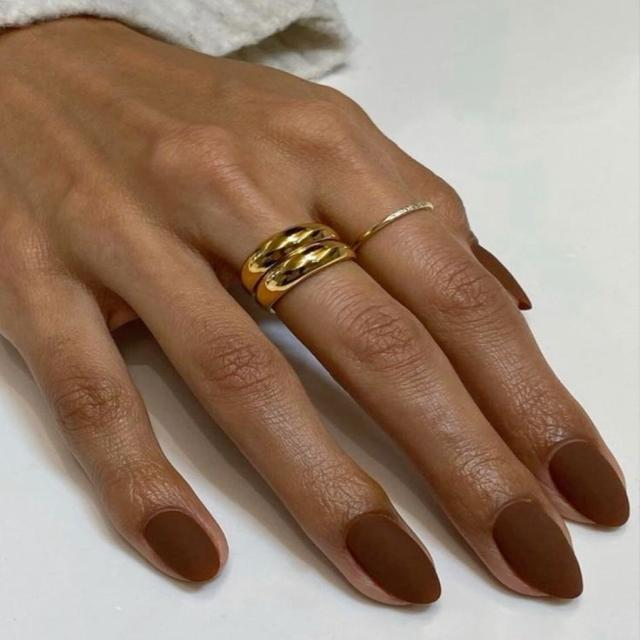Fingernail: (494, 501, 584, 599), (344, 515, 441, 604), (549, 440, 630, 530), (144, 511, 220, 585), (473, 243, 532, 308)
